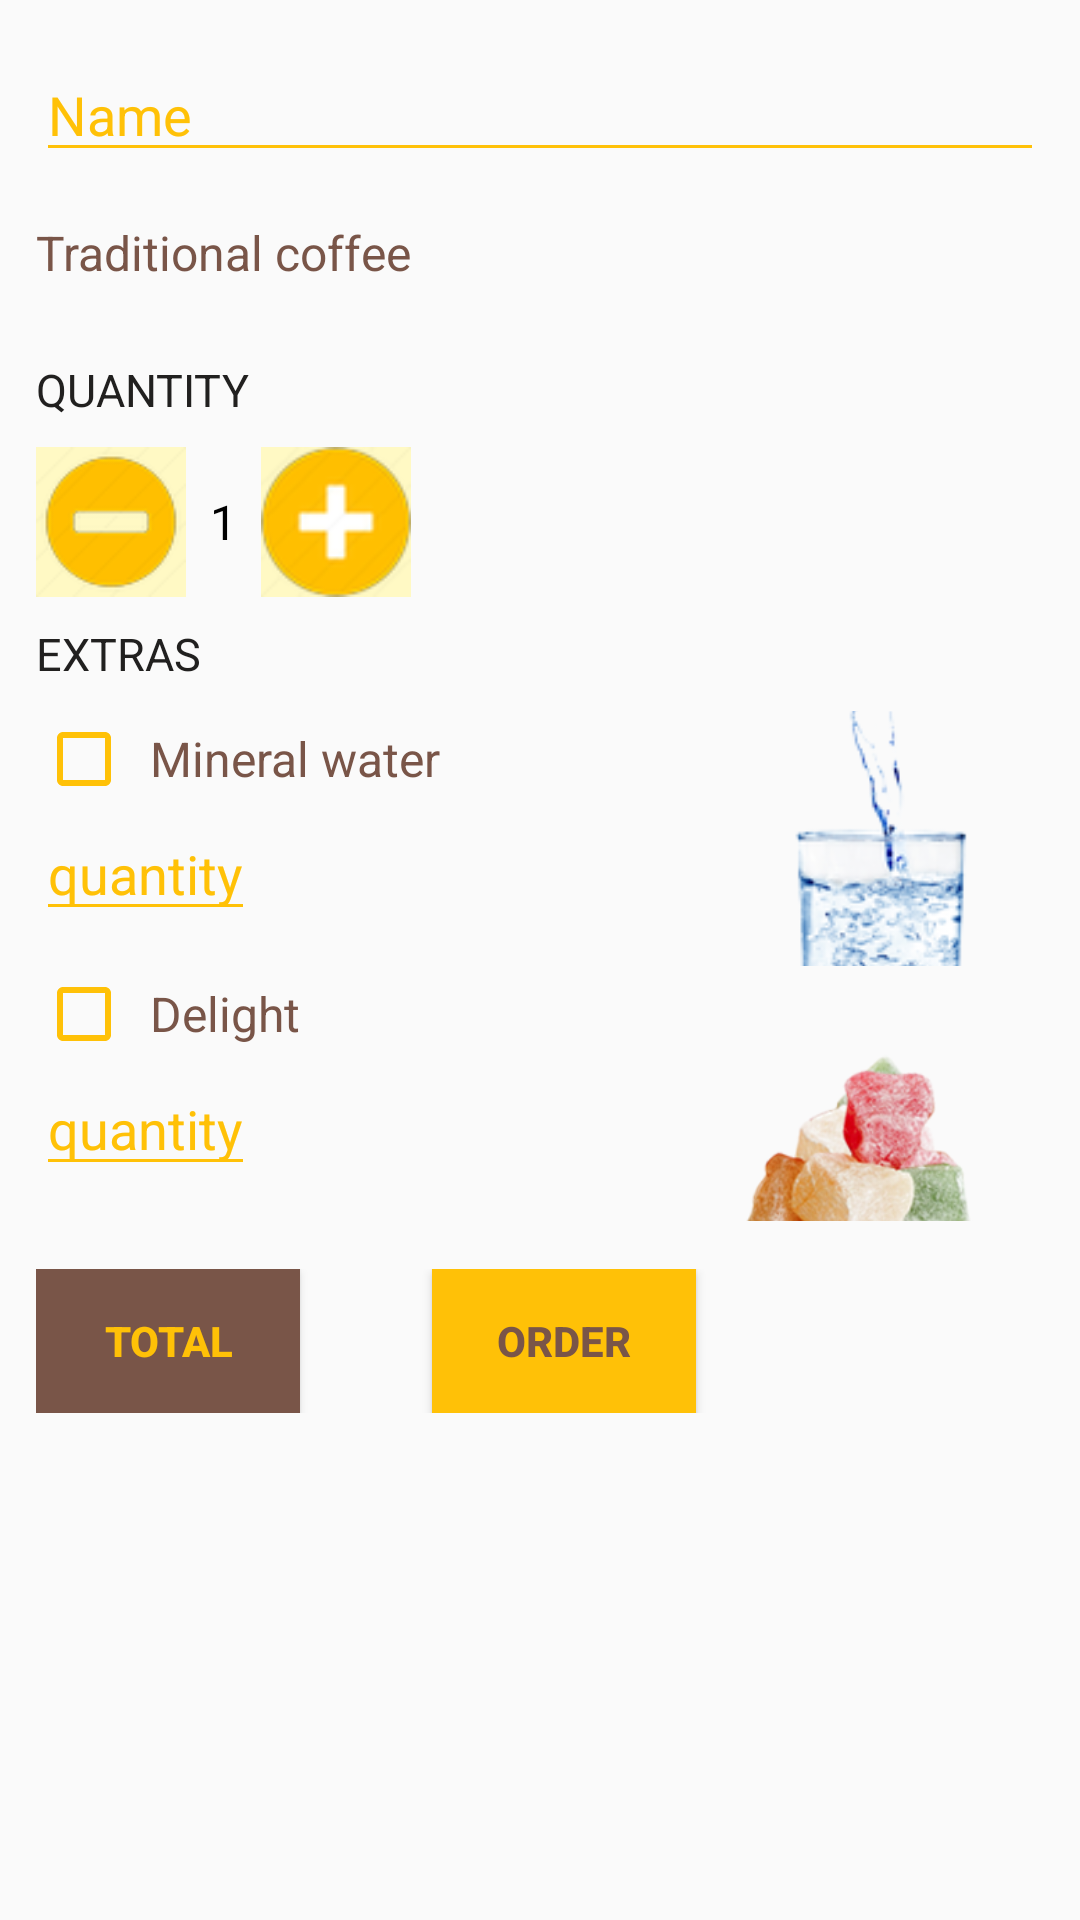

Icons on this 1080px×1920px Android screen, each with its box as [left=x1, top=y1, right=x2, bottom=y2]:
delightt: [left=747, top=1058, right=969, bottom=1221]
minuscircle: [left=36, top=447, right=186, bottom=597]
pluscircle: [left=261, top=447, right=411, bottom=597]
water: [left=796, top=711, right=967, bottom=966]
